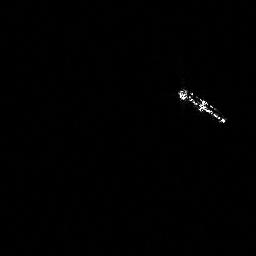ship: (174, 86, 230, 126)
